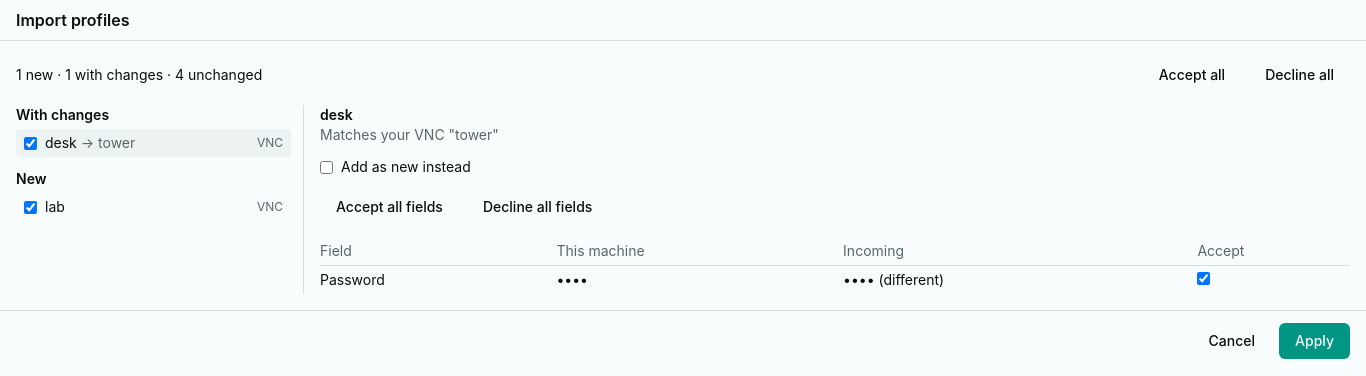
Test: a VNC profile is labelled VNC in the list and in its details
Expected: the text "Matches your VNC \"tower\"" is shown, [320,126,499,143]
Expected: the text "VNC" is shown 2 times, [257,135,283,151]; [257,199,283,215]
Click the button "lab" at (147, 207), box [45,197,249,217]
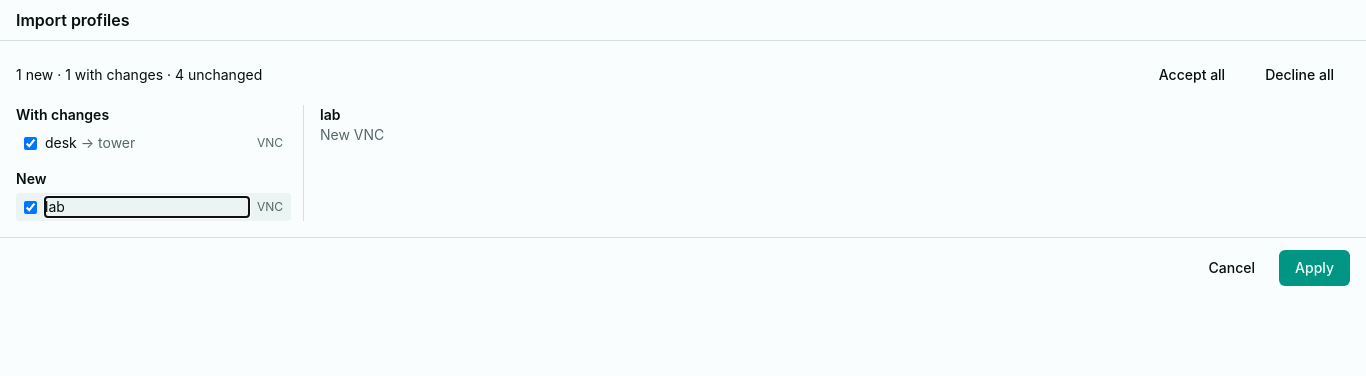
Expected: the text "New VNC" is shown, [320,126,384,143]
